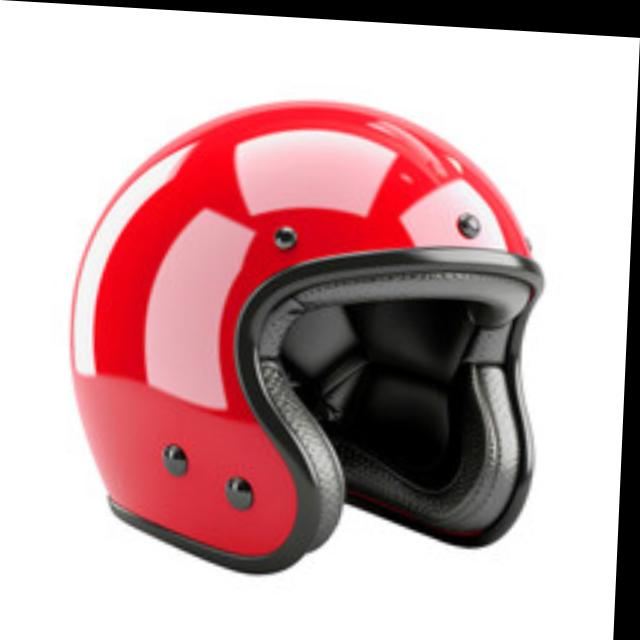motorcycle-helmets: (45, 77, 562, 599)
